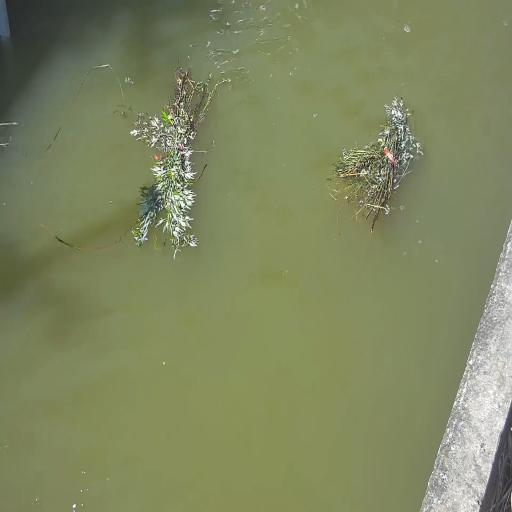twig: (130, 56, 227, 258), (330, 95, 421, 236)
